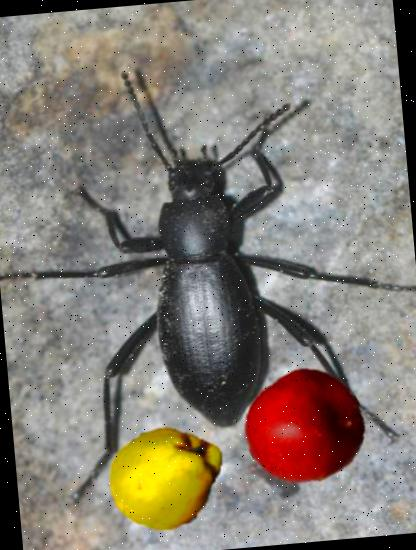Kohlrabi: (120, 424, 183, 487)
Nectarine: (240, 363, 370, 493)
Quince: (104, 414, 231, 540)
